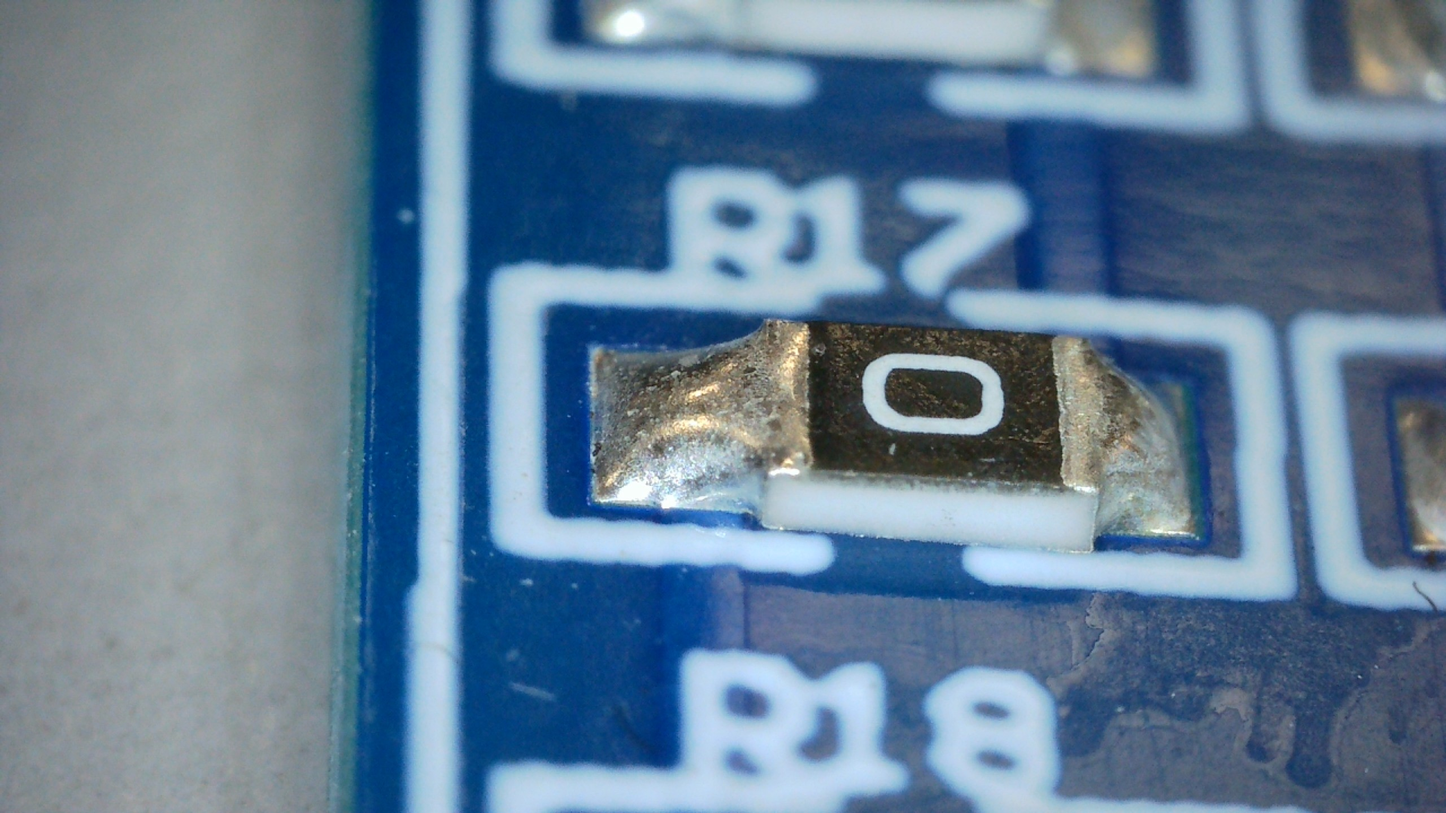NG: (595, 317, 811, 502), (1057, 335, 1194, 535)
